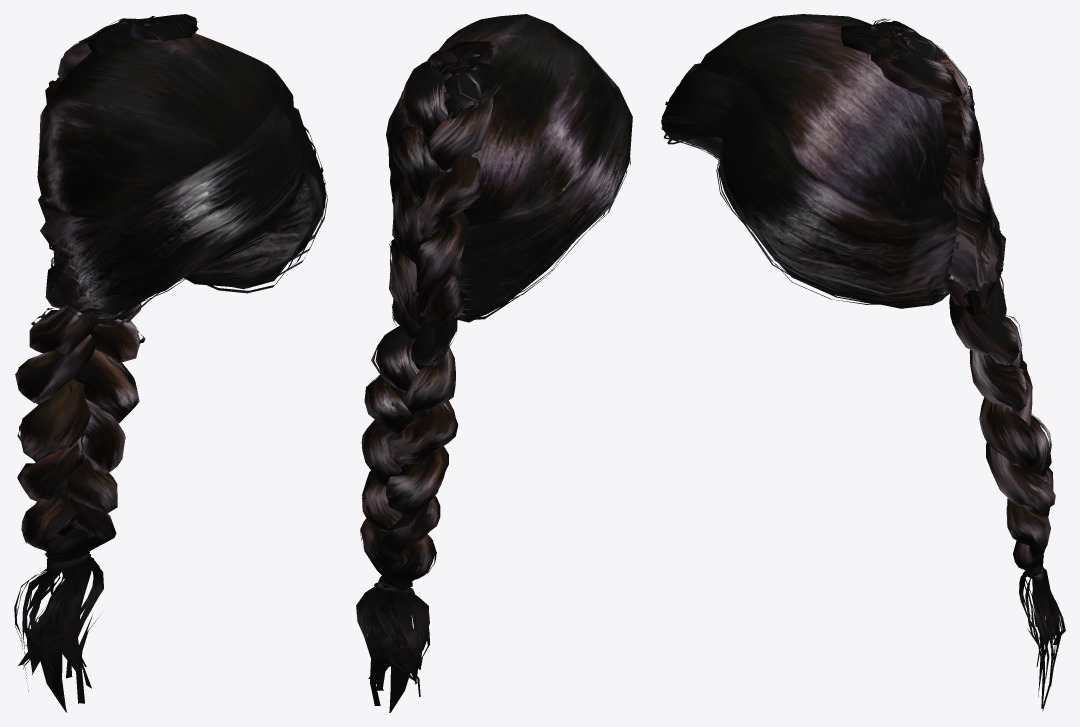
The model's file is mh_elvs_french_braid_variation.glb.
The picture shows the model from 3 angles, left to right: view 1: azimuth 30°, elevation 25°; view 2: azimuth 150°, elevation 25°; view 3: azimuth 270°, elevation 25°; orthographic projection. The views are drawn at different scales.
Visible parts, largest first — view 1: mh_elvs_french_braid_variation; view 2: mh_elvs_french_braid_variation; view 3: mh_elvs_french_braid_variation.
Boxes of the visible parts, x1,y1,x2,y2 form: mh_elvs_french_braid_variation: (14,14,327,712); mh_elvs_french_braid_variation: (356,14,632,712); mh_elvs_french_braid_variation: (661,14,1065,711).
Bounding box in the file's own units: 0.2023 × 0.6246 × 0.3372.
1 material, 1 textured.
